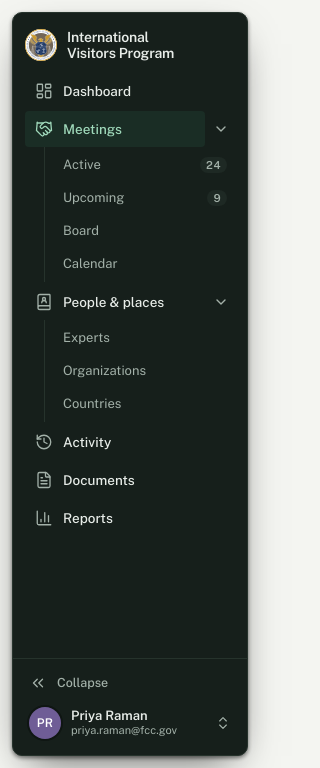
Scenario: account menu › hands light and dark to the display panel rather than keeping a switch of its own
Step 1. Click the button with aria-label "Account menu — Priya Raman, Coordinator" → (130, 723), box [21,699,239,747]
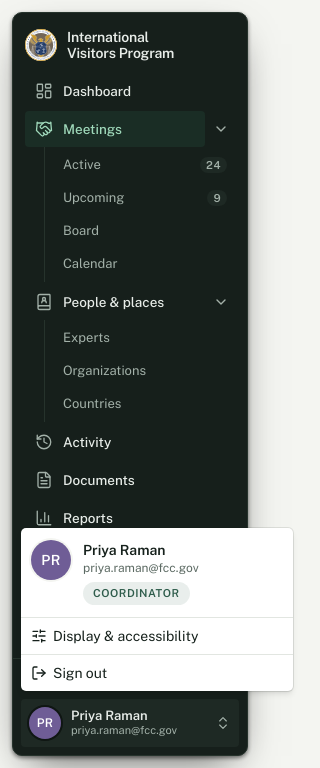
Expected: the menu item "Display & accessibility" is shown, [31,628,198,644]
Expected: the menu item "Sign out" is shown, [31,665,107,681]
